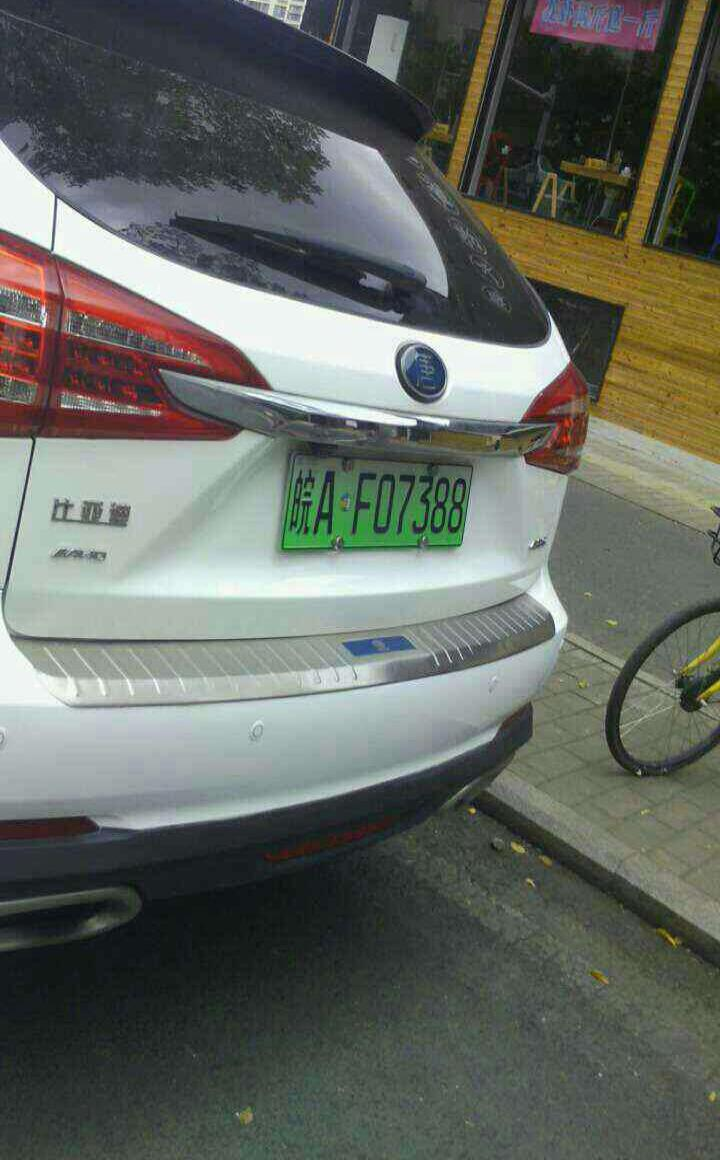car_id: (283, 453, 478, 553)
